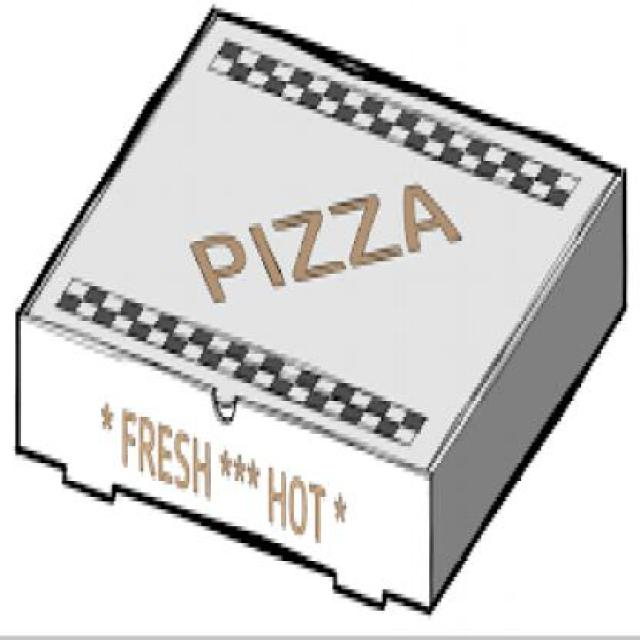CARDBOARD: (13, 0, 624, 611)
